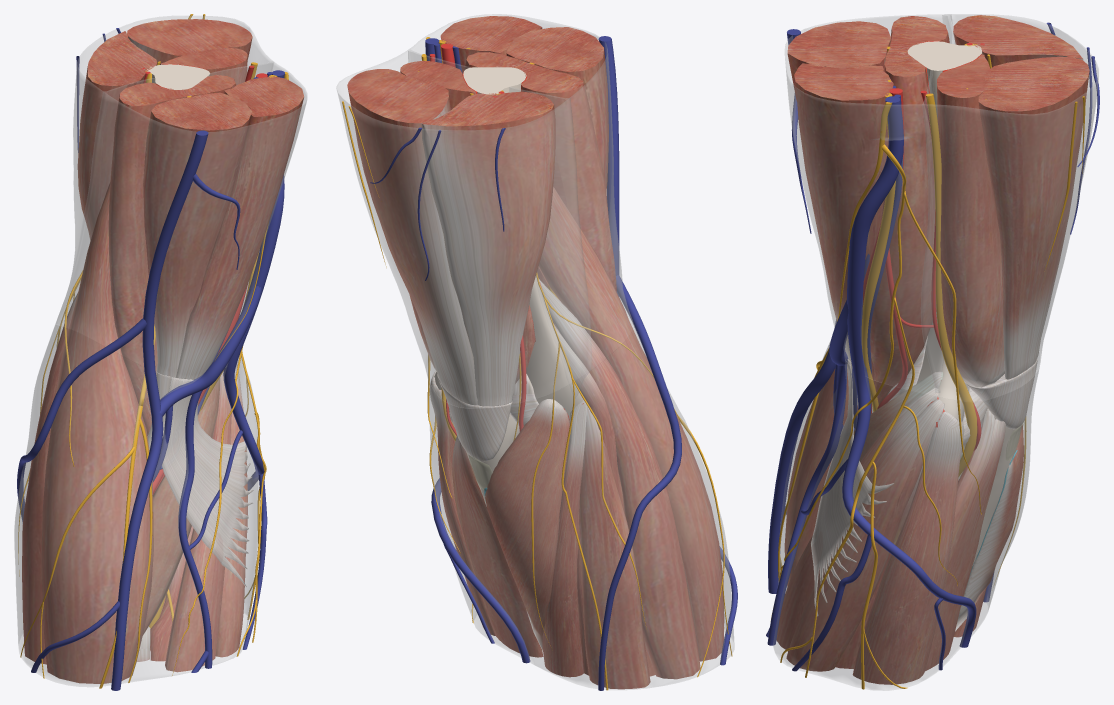
Rendered from zone-elbow.glb.
The picture shows the model from 3 angles, left to right: view 1: azimuth 30°, elevation 25°; view 2: azimuth 150°, elevation 25°; view 3: azimuth 270°, elevation 25°; orthographic projection. The views are drawn at different scales.
Parts seen in each view (by area): view 1: Antebrachial fascia.r, Brachial fascia.r, Brachioradialis muscle.r, Long head of biceps brachii.r, Short head of biceps brachii.r, Brachialis muscle.r, Bicipital aponeurosis.r, Lateral head of triceps brachii.r, Cephalic vein.r, Superficial veins of upper limb.r, Flexor carpi radialis.r, Extensor carpi radialis longus.r (+15 smaller); view 2: Antebrachial fascia.r, Brachial fascia.r, Lateral head of triceps brachii.r, Long head of triceps brachii.r, Brachioradialis muscle.r, Extensor carpi radialis longus.r, Anconeus muscle.r, Extensor digitorum.r, Brachialis muscle.r, Lateral intermuscular septum of arm.r, Humeral head of extensor carpi ulnaris.r, Ulnar head of flexor carpi ulnaris.r (+15 smaller); view 3: Brachial fascia.r, Antebrachial fascia.r, Long head of triceps brachii.r, Medial head of triceps brachii.r, Short head of biceps brachii.r, Humeral head of flexor carpi ulnaris.r, Brachialis muscle.r, Palmaris longus muscle.r, Bascilic vein.r, Medial antebrachial cutaneous nerve.r, Ulnar head of flexor carpi ulnaris.r, Bicipital aponeurosis.r (+23 smaller).
Part boxes in pixels (bbox=[...]): Antebrachial fascia.r: bbox=[14, 324, 258, 686]; Brachial fascia.r: bbox=[55, 16, 307, 381]; Brachioradialis muscle.r: bbox=[41, 183, 153, 683]; Long head of biceps brachii.r: bbox=[143, 92, 252, 377]; Short head of biceps brachii.r: bbox=[176, 76, 304, 379]; Brachialis muscle.r: bbox=[108, 74, 236, 435]; Bicipital aponeurosis.r: bbox=[162, 377, 253, 586]; Lateral head of triceps brachii.r: bbox=[77, 31, 156, 239]; Cephalic vein.r: bbox=[111, 130, 208, 690]; Superficial veins of upper limb.r: bbox=[17, 28, 267, 672]; Flexor carpi radialis.r: bbox=[165, 371, 231, 672]; Extensor carpi radialis longus.r: bbox=[22, 293, 77, 664]; Antebrachial fascia.r: bbox=[427, 324, 734, 689]; Brachial fascia.r: bbox=[336, 14, 634, 408]; Lateral head of triceps brachii.r: bbox=[421, 91, 555, 406]; Long head of triceps brachii.r: bbox=[347, 69, 477, 405]; Brachioradialis muscle.r: bbox=[538, 187, 724, 661]; Extensor carpi radialis longus.r: bbox=[539, 279, 700, 679]; Anconeus muscle.r: bbox=[484, 399, 569, 650]; Extensor digitorum.r: bbox=[579, 406, 650, 689]; Brachialis muscle.r: bbox=[464, 52, 616, 325]; Lateral intermuscular septum of arm.r: bbox=[509, 87, 591, 394]; Humeral head of extensor carpi ulnaris.r: bbox=[542, 400, 587, 677]; Ulnar head of flexor carpi ulnaris.r: bbox=[452, 435, 543, 657]; Brachial fascia.r: bbox=[785, 14, 1098, 401]; Antebrachial fascia.r: bbox=[773, 341, 1040, 690]; Long head of triceps brachii.r: bbox=[978, 56, 1089, 379]; Medial head of triceps brachii.r: bbox=[936, 54, 1004, 387]; Short head of biceps brachii.r: bbox=[794, 63, 893, 360]; Humeral head of flexor carpi ulnaris.r: bbox=[853, 411, 964, 684]; Brachialis muscle.r: bbox=[870, 16, 949, 404]; Palmaris longus muscle.r: bbox=[786, 399, 944, 671]; Bascilic vein.r: bbox=[842, 96, 976, 647]; Medial antebrachial cutaneous nerve.r: bbox=[770, 102, 981, 689]; Ulnar head of flexor carpi ulnaris.r: bbox=[925, 409, 1005, 670]; Bicipital aponeurosis.r: bbox=[811, 359, 893, 616].
Bounding box in the file's own units: 0.1161 × 0.2044 × 0.1006.
30 materials, 7 textured.
